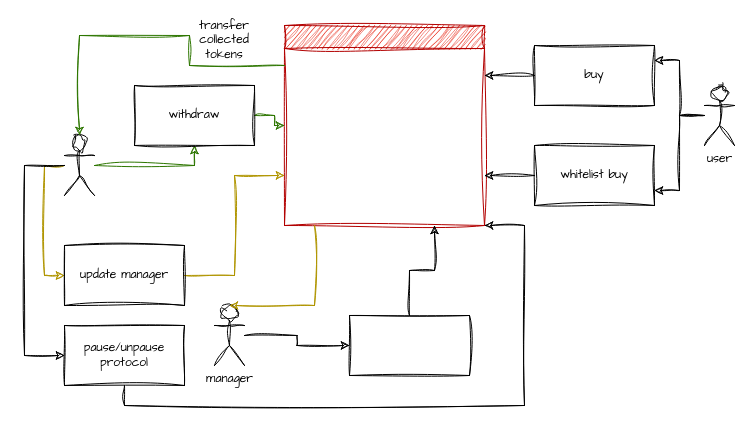
Some shapes in this 752 by 431 pixel diagram are drawn without their labels. Here are the shapes that lost their labels. From the top down, the centre of each, then its label:
At point (384, 125): "Nodesale".
At point (79, 165): "owner".
At point (409, 345): "create referral code".
